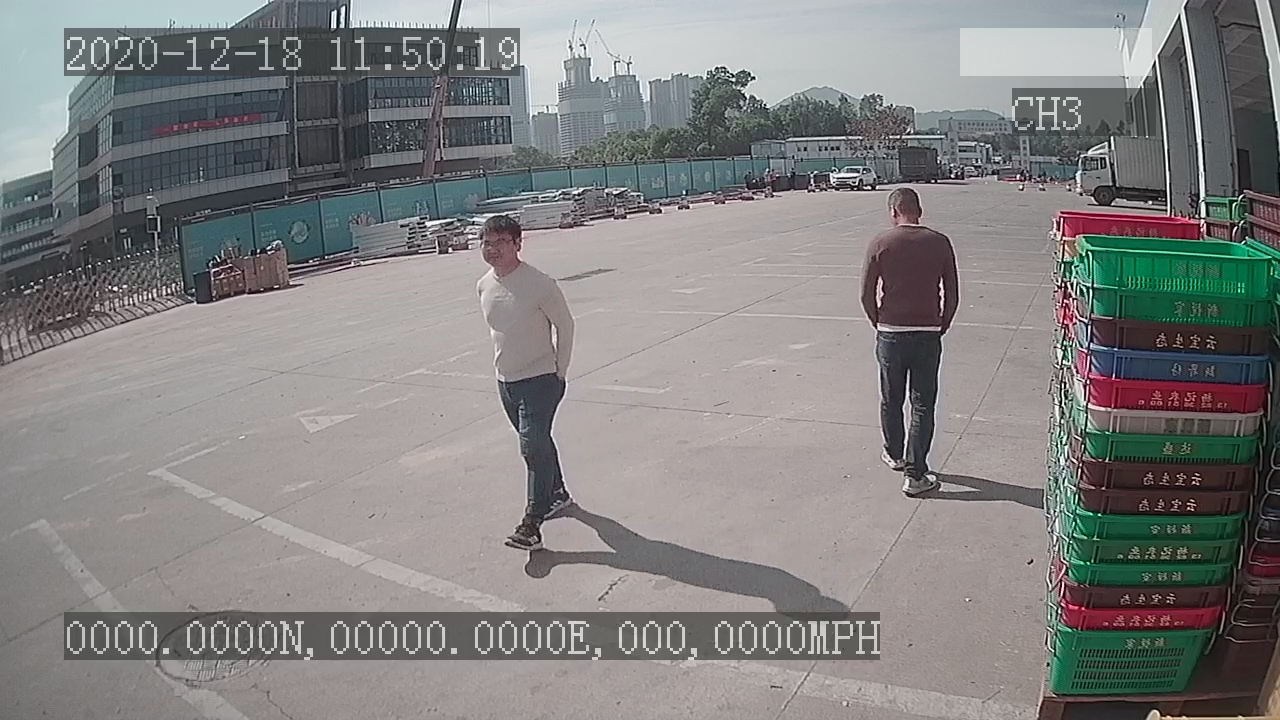person: (468, 213, 576, 556), (859, 186, 961, 501)
